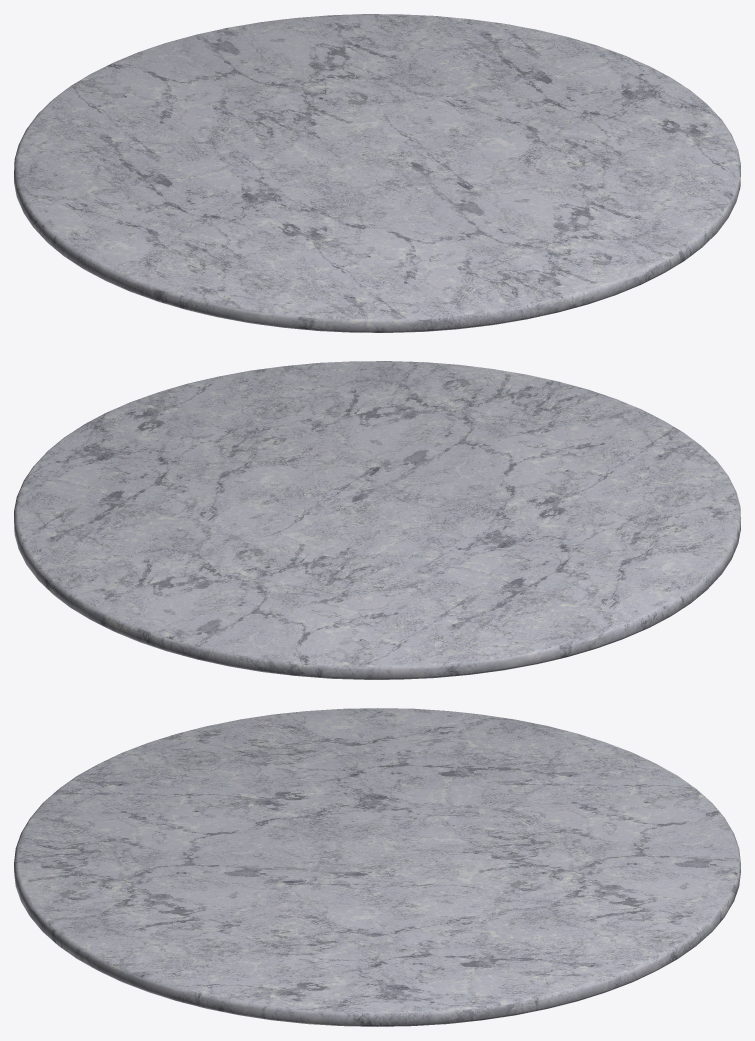
Rendered from hamburguesa_plato.fbx.
3 renders of one model, top to bottom at view 1: azimuth 30°, elevation 25°; view 2: azimuth 150°, elevation 25°; view 3: azimuth 270°, elevation 25°, orthographic.
Parts seen in each view (by area): view 1: Plato; view 2: Plato; view 3: Plato.
Part boxes in pixels (bbox=[...]): Plato: bbox=[14, 14, 740, 332]; Plato: bbox=[14, 361, 740, 679]; Plato: bbox=[14, 708, 740, 1026].
Size of the model in its own units: 520 by 11.96 by 520.
1 material, 1 textured.
